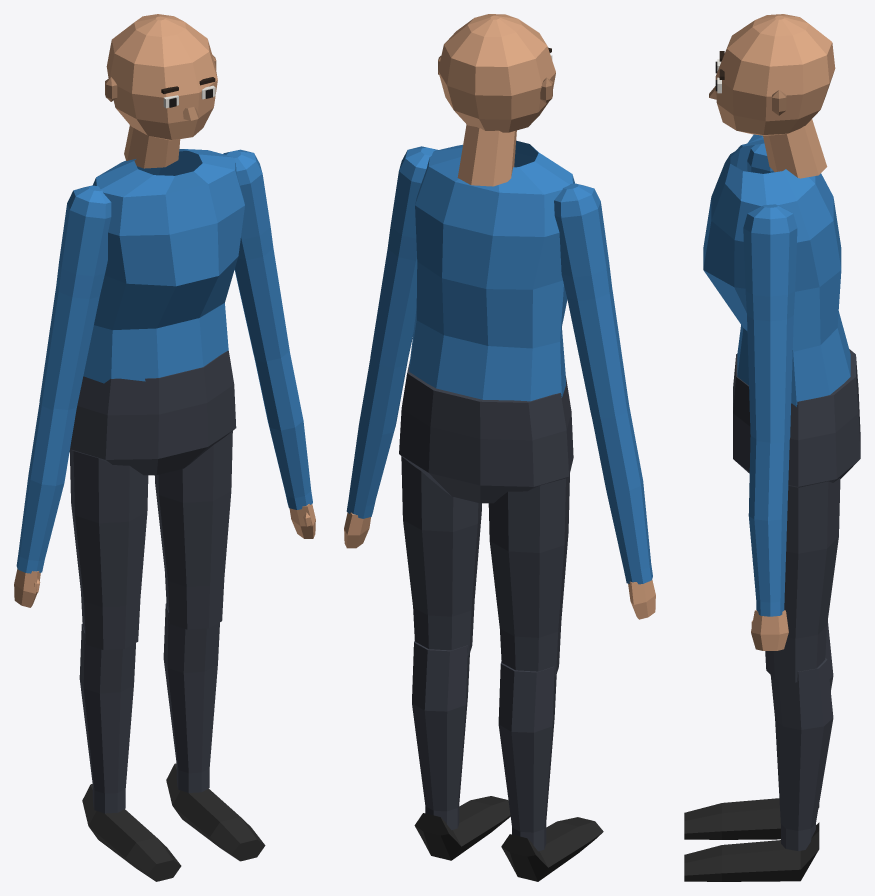
Rendered from senior_f_mince.glb.
3 renders of one model, left to right at view 1: azimuth 30°, elevation 25°; view 2: azimuth 150°, elevation 25°; view 3: azimuth 270°, elevation 25°, orthographic. The views are drawn at different scales.
Parts seen in each view (by area): view 1: torse, bassin, tete, jambe_d, jambe_g, tibia_g, tibia_d, bras_d, bras_g, avant_bras_d, avant_bras_g; view 2: torse, bassin, tete, jambe_d, tibia_d, tibia_g, jambe_g, bras_d, bras_g, avant_bras_d, avant_bras_g; view 3: torse, tete, tibia_g, bras_g, jambe_g, bassin, avant_bras_g, tibia_d, bras_d.
Part boxes in pixels (<box>): torse: <box>83,149,244,383</box>; bassin: <box>70,350,236,475</box>; tete: <box>105,14,217,168</box>; jambe_d: <box>69,448,148,649</box>; jambe_g: <box>154,431,232,629</box>; tibia_g: <box>163,603,265,861</box>; tibia_d: <box>79,624,181,881</box>; bras_d: <box>39,185,111,410</box>; bras_g: <box>223,149,289,362</box>; avant_bras_d: <box>14,403,76,607</box>; avant_bras_g: <box>254,351,315,538</box>; torse: <box>409,140,574,401</box>; bassin: <box>399,361,573,503</box>; tete: <box>438,14,555,186</box>; jambe_d: <box>488,474,569,676</box>; tibia_d: <box>498,661,603,881</box>; tibia_g: <box>412,640,510,860</box>; jambe_g: <box>401,456,481,655</box>; bras_d: <box>554,183,629,418</box>; bras_g: <box>370,146,437,367</box>; avant_bras_d: <box>591,406,655,619</box>; avant_bras_g: <box>344,358,408,548</box>; torse: <box>703,139,850,406</box>; tete: <box>709,14,835,178</box>; tibia_g: <box>684,658,833,881</box>; bras_g: <box>743,204,797,443</box>; jambe_g: <box>765,478,840,682</box>; bassin: <box>733,349,860,487</box>; avant_bras_g: <box>748,436,789,650</box>; tibia_d: <box>684,620,833,839</box>; bras_d: <box>747,134,774,173</box>.
Size of the model in its own units: 0.5972 by 1.59 by 0.302.
1 material, 1 textured.
